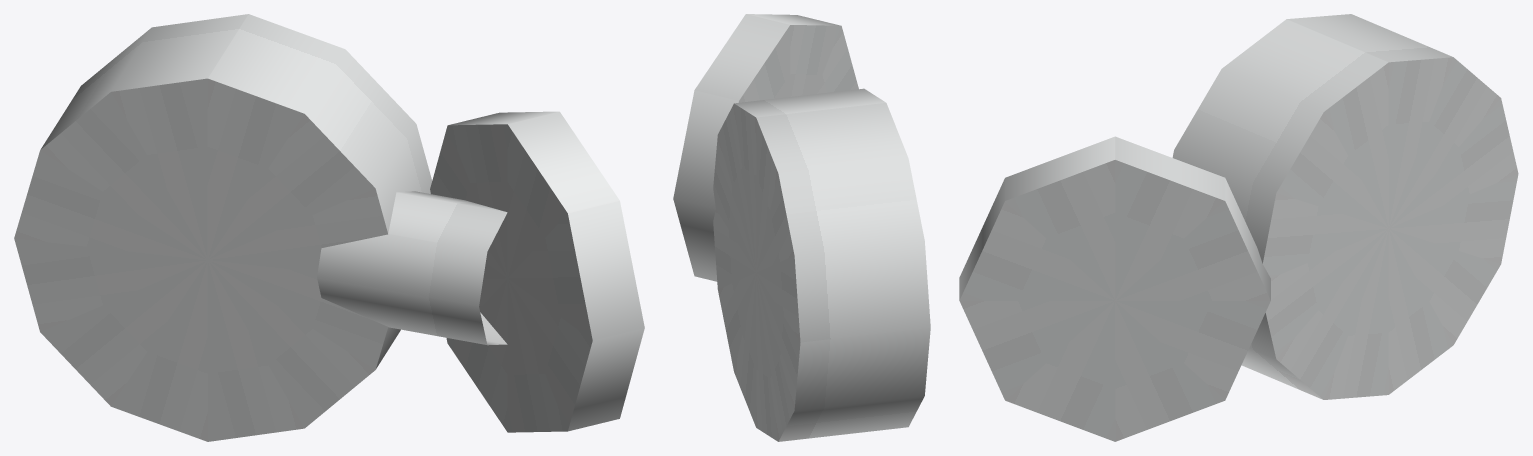
Rendered from trusssignalarm_stub_126.obj.
The picture shows the model from 3 angles, left to right: view 1: azimuth 30°, elevation 25°; view 2: azimuth 150°, elevation 25°; view 3: azimuth 270°, elevation 25°; orthographic projection. The views are drawn at different scales.
Parts seen in each view (by area): view 1: trusssignalarm_stub_126; view 2: trusssignalarm_stub_126; view 3: trusssignalarm_stub_126.
Boxes of the visible parts, <box> form: trusssignalarm_stub_126: <box>14,14,644,441</box>; trusssignalarm_stub_126: <box>673,14,930,441</box>; trusssignalarm_stub_126: <box>959,14,1518,441</box>.
Size of the model in its own units: 0.4527 by 0.4125 by 0.6283.
